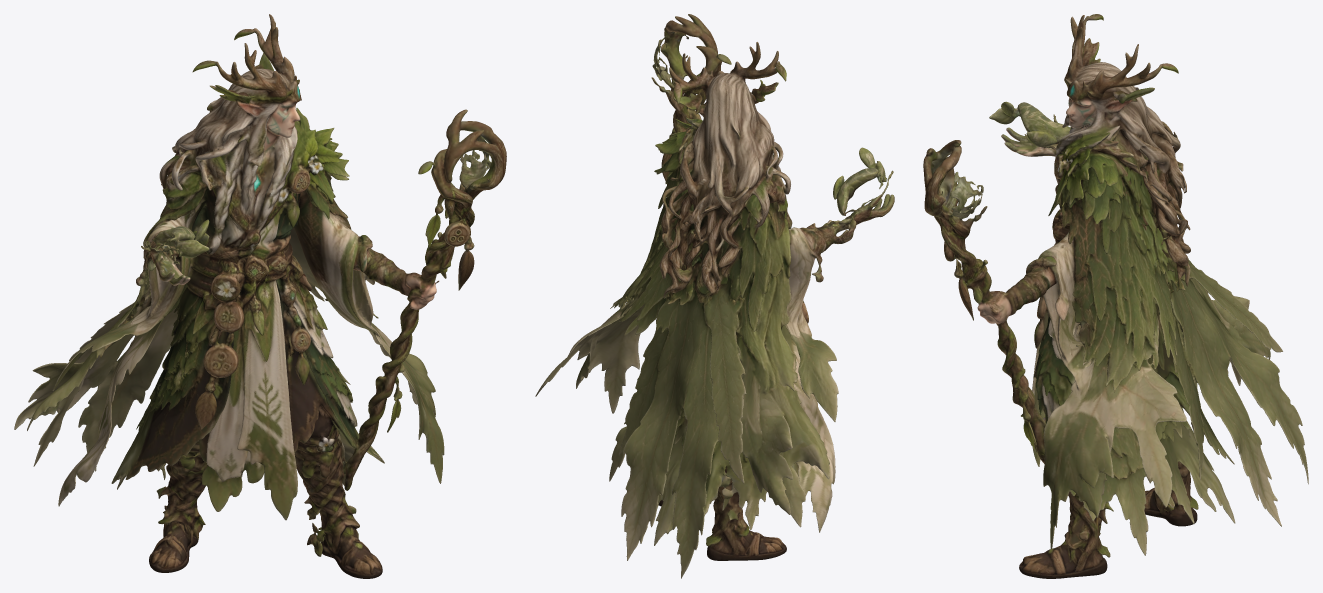
Rendered from Seer.glb.
3 views of the same model, side by side, from view 1: azimuth 30°, elevation 25°; view 2: azimuth 150°, elevation 25°; view 3: azimuth 270°, elevation 25° (orthographic). The views are drawn at different scales.
Bounding box in the file's own units: 1.31 × 1.9 × 1.29.
Materials: 1 (1 with a texture image).
